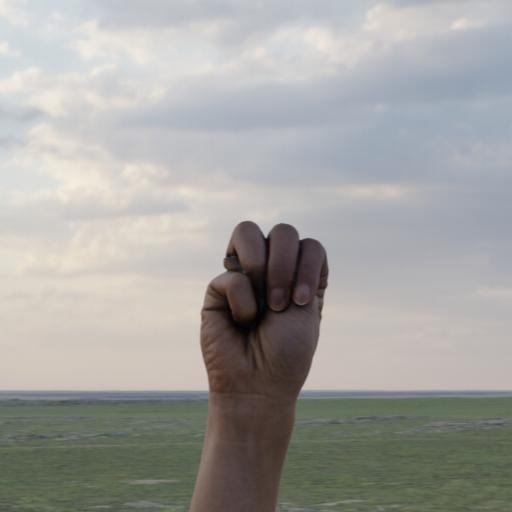M: (192, 209, 336, 489)
